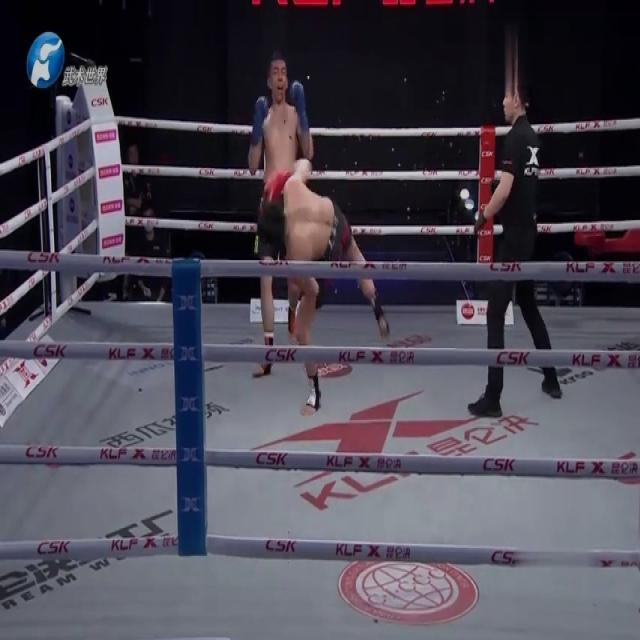fight: (247, 49, 391, 406)
non-fight: (471, 70, 559, 414)
